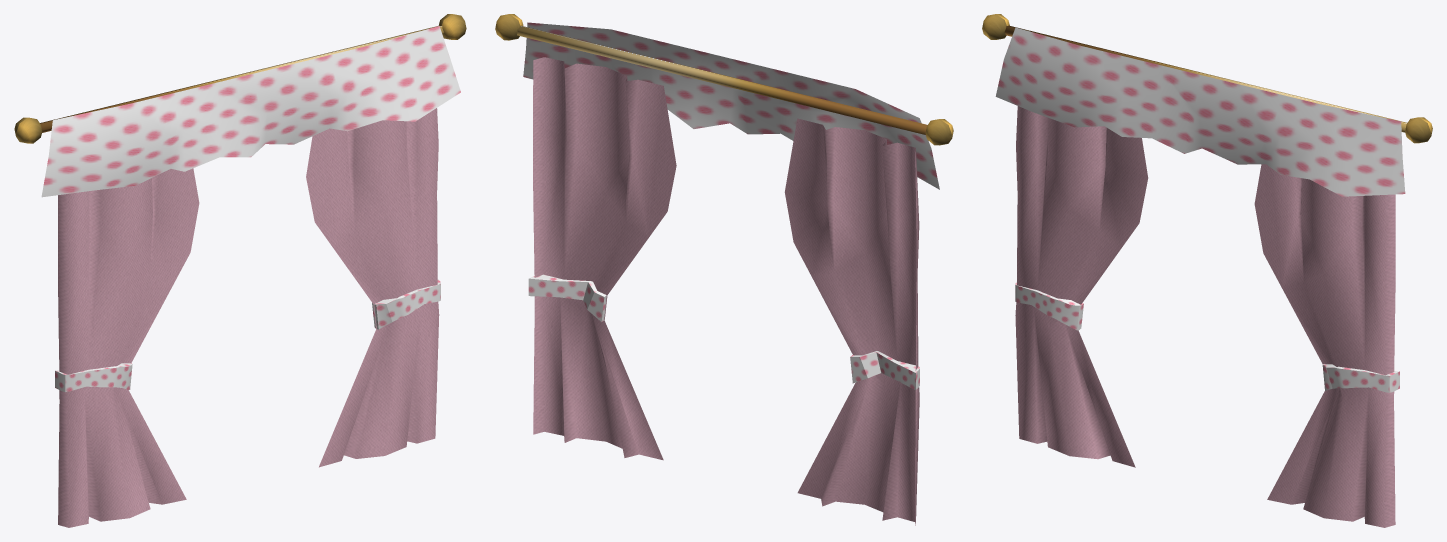
Rendered from Curtains_01_P.FBX.
3 views of the same model, side by side, from view 1: azimuth 30°, elevation 25°; view 2: azimuth 150°, elevation 25°; view 3: azimuth 330°, elevation 25° (orthographic).
Parts seen in each view (by area): view 1: Curtains_01; view 2: Curtains_01; view 3: Curtains_01.
Boxes of the visible parts, box(x1,y1,x2,y2) form: Curtains_01: box(14, 14, 466, 527); Curtains_01: box(495, 14, 953, 525); Curtains_01: box(982, 14, 1432, 527).
Size of the model in its own units: 251 by 221 by 26.32.
